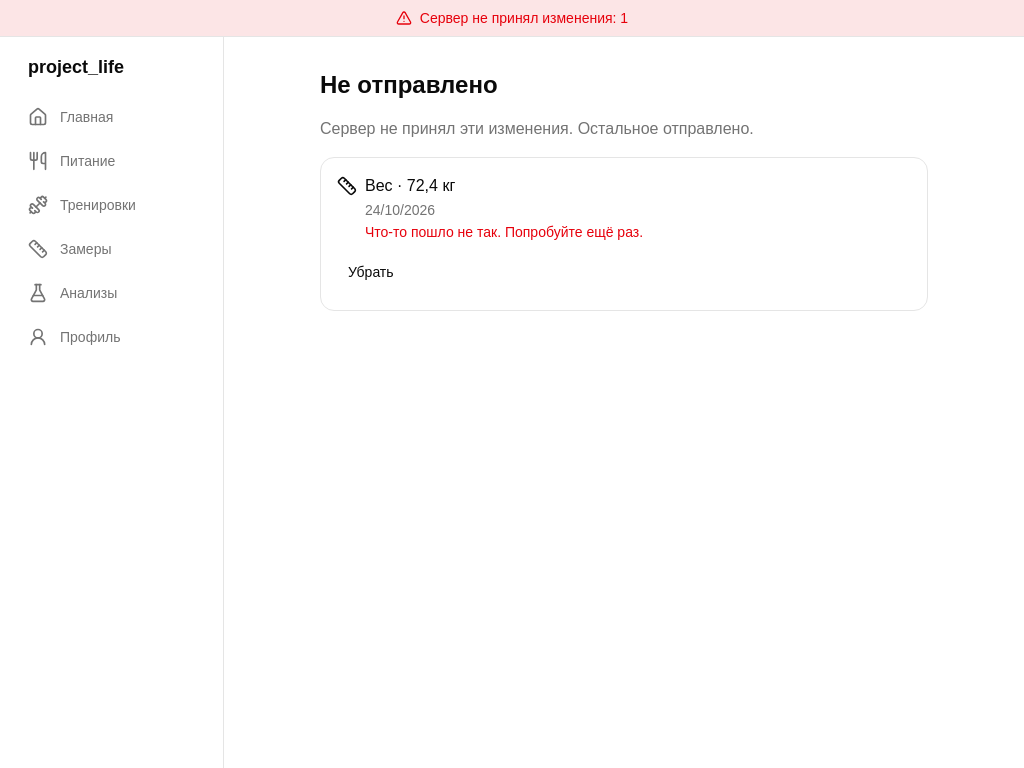
Test: не отправленный замер › на экране «Не отправлено» — вид, значение и дата; «Убрать» стирает его
The image size is (1024, 768).
What coordinates should you click on to do the following:
click the button "Убрать"
I would click on:
 (371, 272)
Its box is [337,250,405,294].
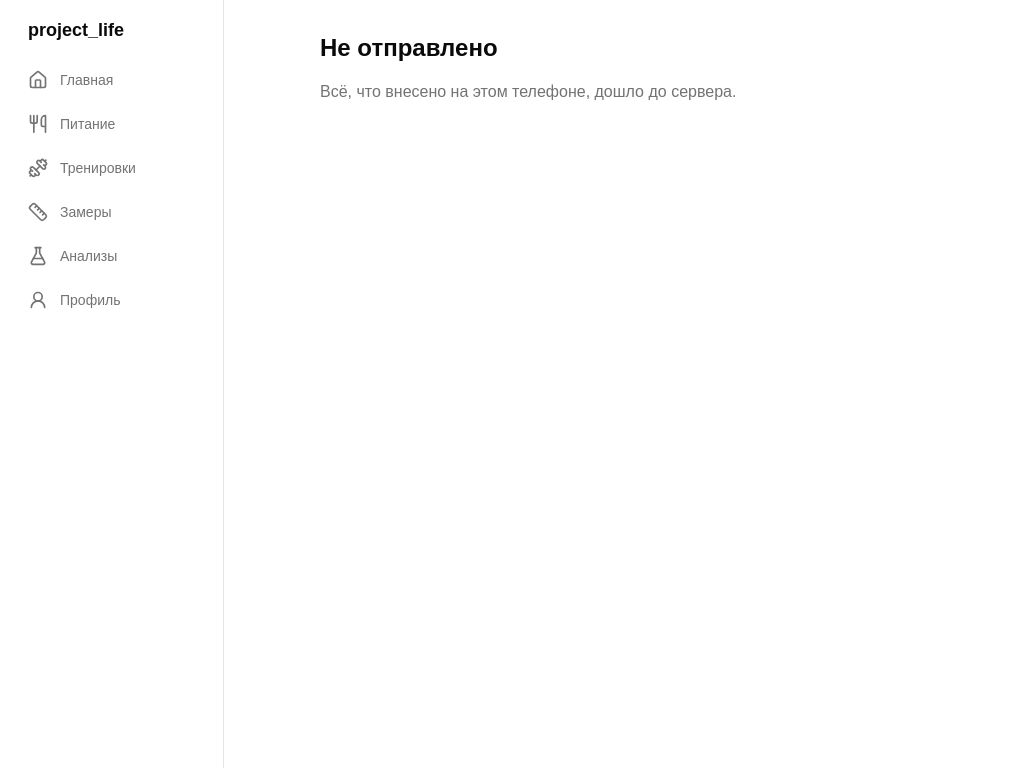
Expected: the text "Всё, что внесено на этом телефоне, дошло до сервера." is shown, [320,83,736,100]
